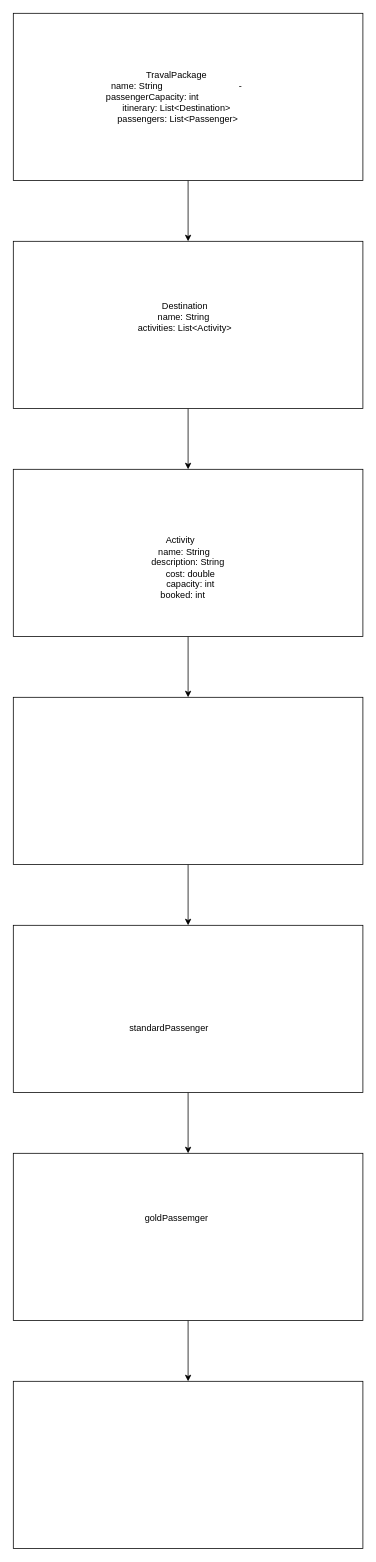
Some shapes in this 376 by 1562 pixel diagram are drawn without their labels. The shapes that lost their labels are listed below. From the top down, each one's centre as x and y in pixels, then its label:
At (188,780): "Passenger name: String passengerNumber: int balance: double".
At (188,1464): "prmiuimPassenger".
